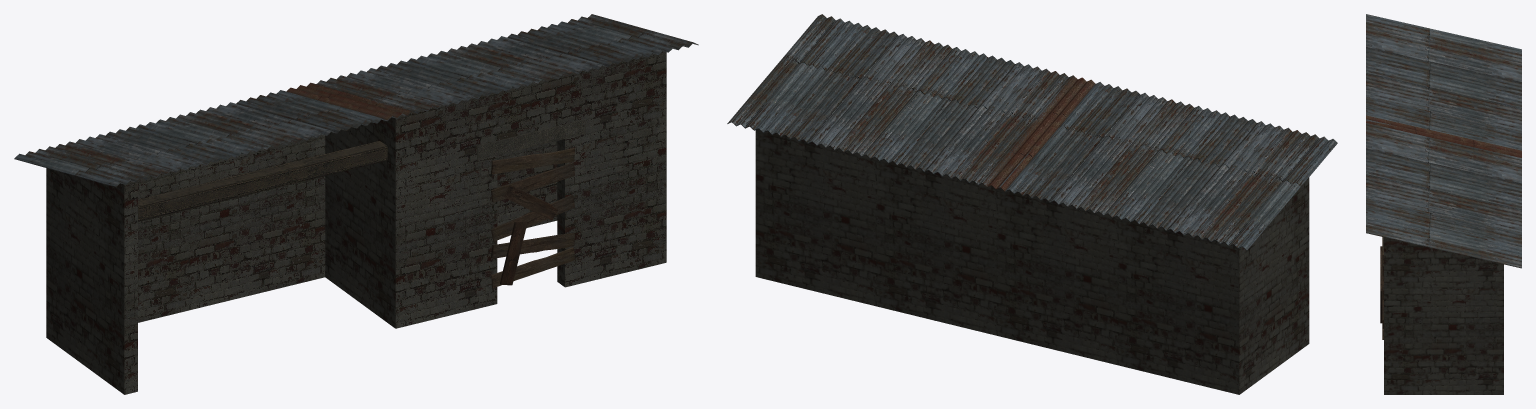
The model's file is shed_ax_3.glb.
The picture shows the model from 3 angles, left to right: view 1: azimuth 30°, elevation 25°; view 2: azimuth 150°, elevation 25°; view 3: azimuth 270°, elevation 25°; orthographic projection. The views are drawn at different scales.
Visible parts, largest first — view 1: shed_ax_3; view 2: shed_ax_3; view 3: shed_ax_3.
Part boxes in pixels (bbox=[...]): shed_ax_3: bbox=[14, 14, 698, 394]; shed_ax_3: bbox=[727, 14, 1337, 394]; shed_ax_3: bbox=[1366, 14, 1521, 394].
Bounding box in the file's own units: 8.59 × 3.17 × 2.6.
Materials: 7 (7 with a texture image).
